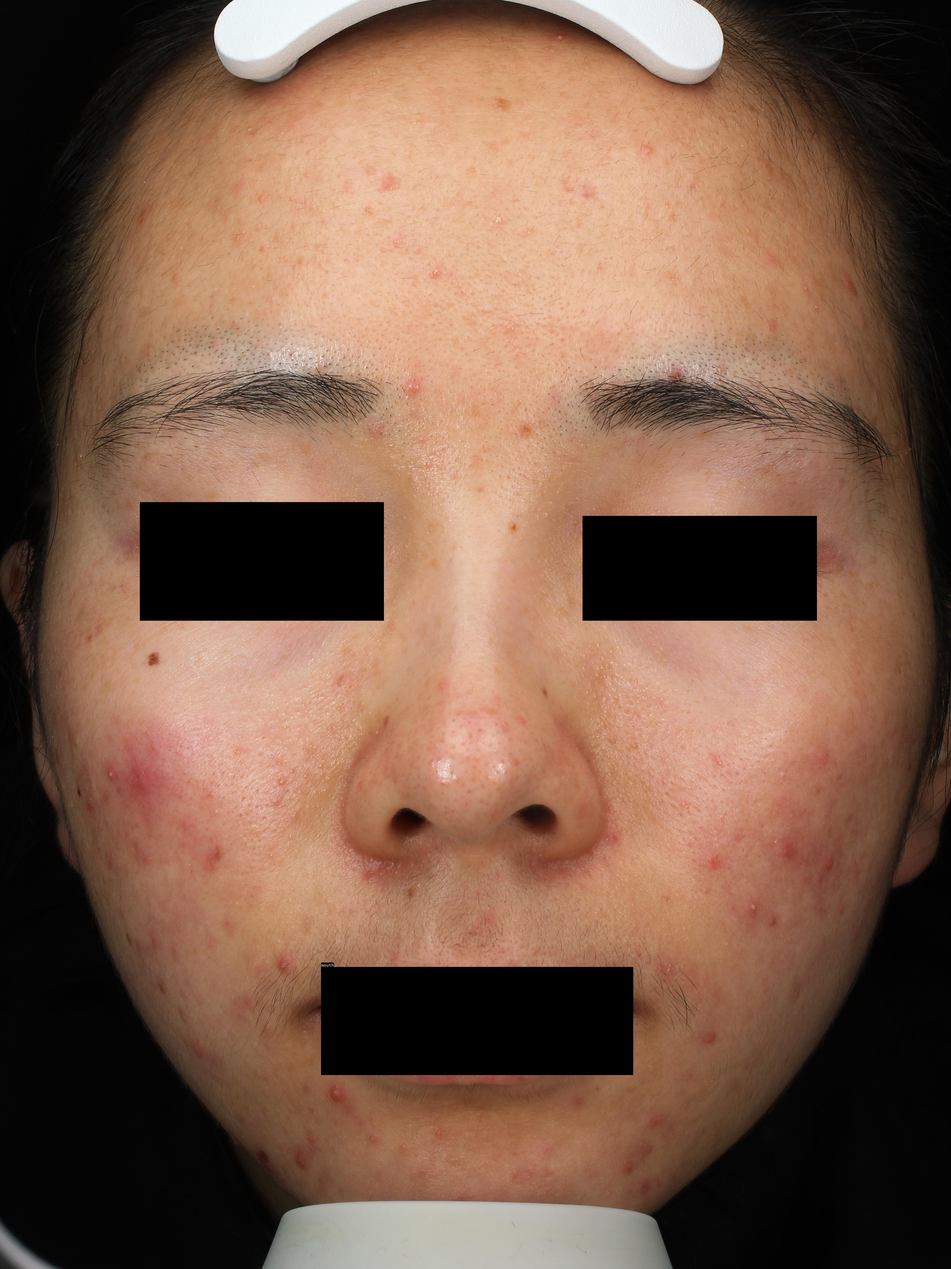atrophic_scar: (376, 175, 402, 194), (580, 178, 599, 201), (200, 196, 221, 213), (560, 176, 575, 194), (409, 273, 420, 287), (378, 247, 395, 254), (365, 165, 376, 175), (412, 246, 424, 255)
closed_comedo: (290, 812, 299, 822), (410, 406, 418, 414), (594, 670, 602, 678), (330, 722, 337, 731), (424, 461, 432, 468), (779, 771, 786, 778), (609, 737, 616, 744), (301, 773, 308, 779), (717, 366, 723, 373), (702, 888, 708, 895), (632, 743, 638, 750), (591, 693, 597, 700), (723, 941, 730, 947), (318, 763, 324, 769), (236, 749, 242, 755), (289, 769, 295, 774), (325, 899, 331, 904), (418, 204, 423, 209), (246, 127, 251, 132), (664, 202, 668, 208), (662, 779, 666, 785), (323, 788, 328, 792), (312, 789, 316, 794), (213, 809, 218, 813), (696, 824, 701, 828), (296, 274, 300, 279), (746, 227, 750, 232), (269, 853, 274, 857), (417, 120, 421, 125), (401, 1144, 405, 1148), (698, 802, 701, 806), (290, 197, 294, 200), (355, 253, 357, 256)
hypertrophic_scar: (86, 773, 98, 795)
melasma: (752, 459, 790, 486), (256, 451, 292, 474), (561, 570, 580, 610), (205, 488, 222, 517), (550, 603, 572, 624), (141, 452, 166, 468), (385, 615, 399, 634), (429, 557, 441, 574), (702, 469, 713, 485), (123, 498, 135, 512), (835, 475, 846, 490), (813, 581, 825, 589), (866, 581, 875, 589), (107, 507, 110, 515)
nevus: (508, 521, 522, 537), (148, 652, 161, 666), (126, 933, 135, 947), (76, 784, 83, 799), (541, 687, 550, 698), (382, 716, 390, 728)
nodule: (128, 767, 165, 796)
open_comedo: (457, 167, 463, 173)
papule: (779, 839, 797, 859), (275, 952, 292, 973), (698, 1031, 717, 1046), (616, 1158, 635, 1173), (842, 272, 855, 292), (405, 378, 421, 394), (367, 422, 383, 437), (638, 1178, 652, 1195), (645, 1115, 662, 1128), (191, 1041, 203, 1058), (269, 795, 284, 808), (821, 856, 834, 871), (335, 673, 347, 688), (707, 853, 719, 868), (107, 857, 118, 873), (96, 317, 105, 336), (639, 1142, 652, 1155), (366, 869, 377, 883), (86, 798, 96, 813), (672, 369, 684, 381), (504, 321, 516, 332), (306, 1132, 317, 1144), (434, 1127, 445, 1138), (437, 679, 447, 691), (814, 872, 823, 884), (158, 982, 167, 994), (767, 916, 777, 926), (432, 267, 442, 277), (642, 144, 653, 153), (515, 715, 526, 724), (258, 193, 266, 203), (369, 1133, 377, 1142), (364, 206, 372, 215), (524, 227, 532, 236), (151, 937, 158, 947), (838, 906, 845, 915), (234, 235, 241, 242), (151, 744, 158, 751), (493, 697, 501, 703), (852, 933, 858, 941), (717, 760, 723, 767), (392, 239, 399, 245), (907, 762, 912, 770), (208, 791, 214, 797), (637, 951, 641, 956), (682, 801, 686, 805)
pustule: (327, 1082, 347, 1103), (294, 1150, 311, 1171), (106, 765, 120, 781), (746, 900, 760, 916), (493, 214, 505, 224), (276, 776, 288, 785), (556, 33, 565, 42), (802, 284, 808, 292), (374, 729, 380, 736)
